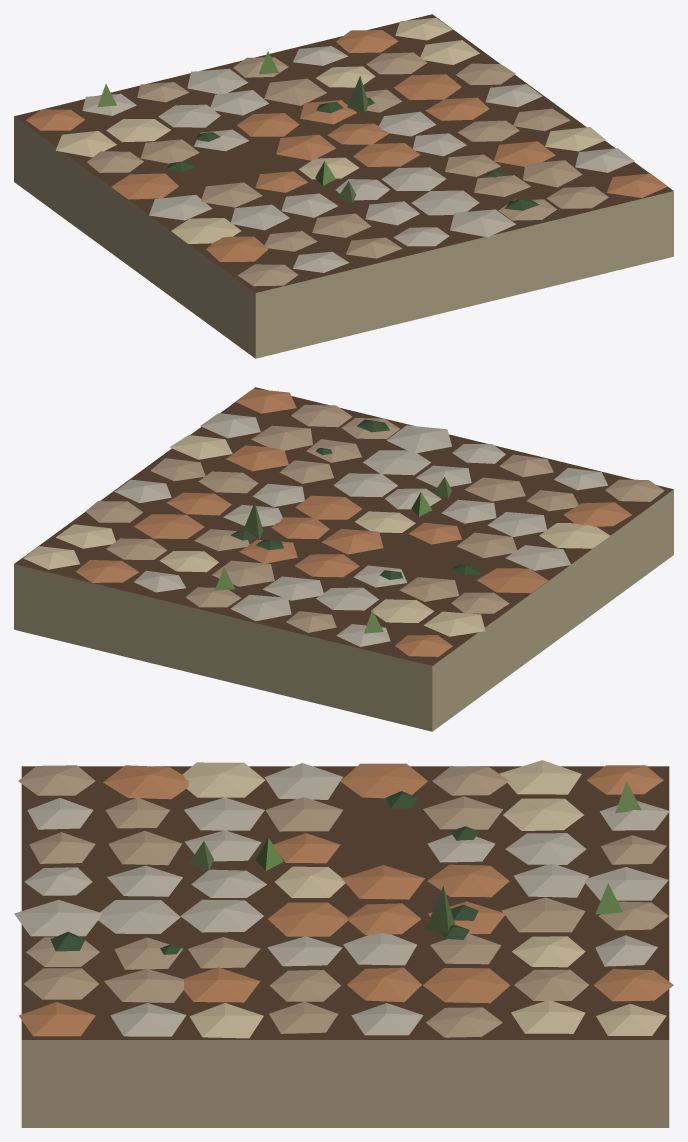
File: t_cobble_b.glb
3 views of the same model, one above another, from view 1: azimuth 30°, elevation 25°; view 2: azimuth 150°, elevation 25°; view 3: azimuth 270°, elevation 25° (orthographic). The views are drawn at different scales.
Parts seen in each view (by area): view 1: t_cobble_b; view 2: t_cobble_b; view 3: t_cobble_b.
Boxes of the visible parts, bbox=[...] form: t_cobble_b: bbox=[14, 14, 673, 358]; t_cobble_b: bbox=[14, 387, 673, 731]; t_cobble_b: bbox=[14, 760, 673, 1127].
Size of the model in its own units: 2.03 by 0.477 by 2.04.
